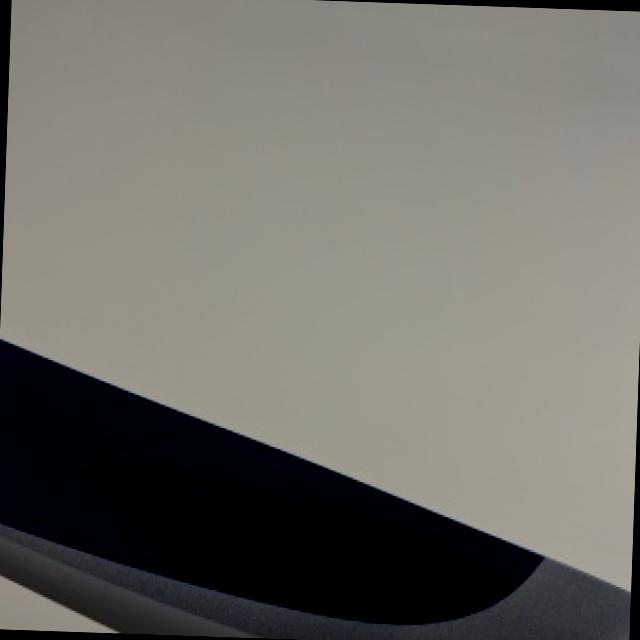healthy: (0, 0, 640, 585), (0, 341, 629, 640)
